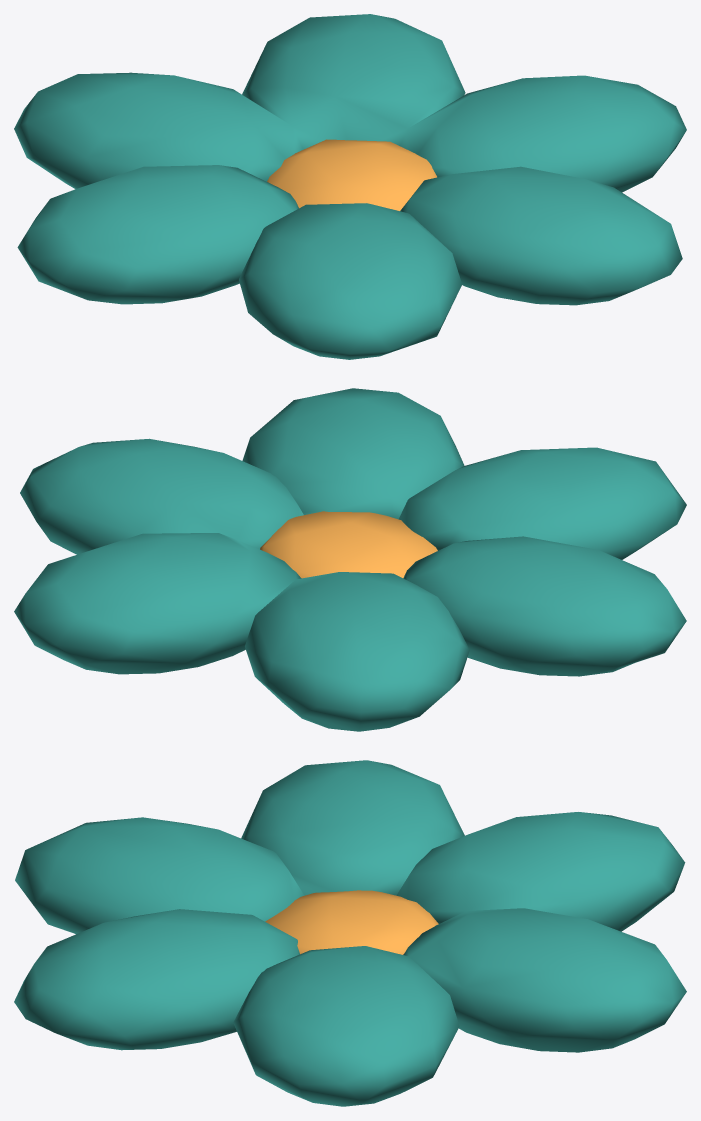
File: flowers2.glb
3 renders of one model, top to bottom at view 1: azimuth 30°, elevation 25°; view 2: azimuth 150°, elevation 25°; view 3: azimuth 270°, elevation 25°, orthographic.
Visible parts, largest first — view 1: flowers2; view 2: flowers2; view 3: flowers2.
Boxes of the visible parts, x1,y1,x2,y2 form: flowers2: (14,14,686,359); flowers2: (14,388,686,731); flowers2: (14,760,686,1106).
Size of the model in its own units: 1.46 by 0.18 by 1.31.
